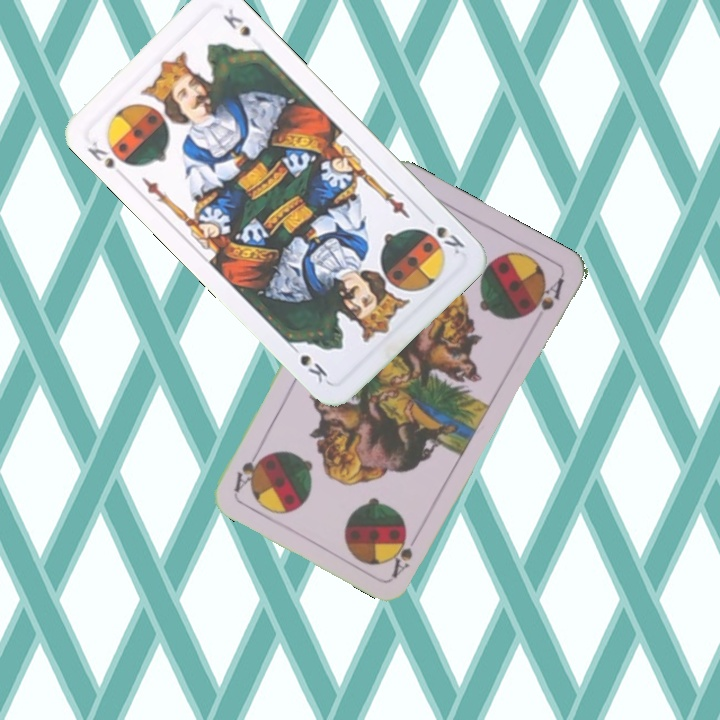SA: (388, 526, 424, 580)
SK: (420, 210, 468, 257), (83, 137, 117, 171)
